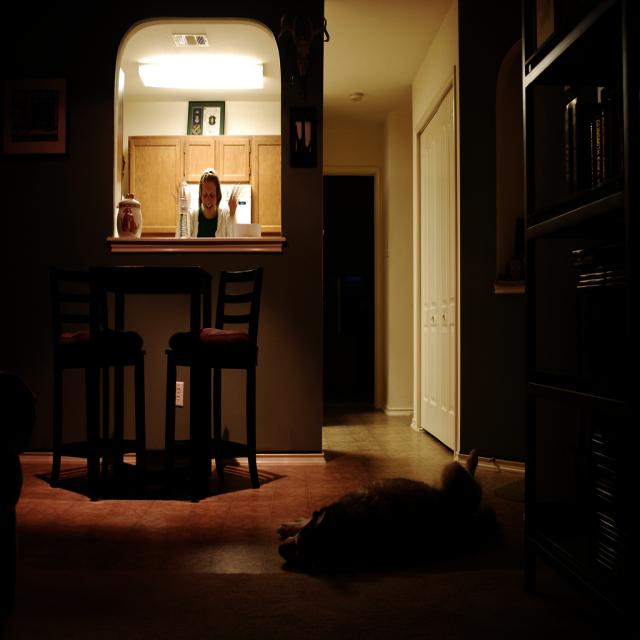Dog: (278, 448, 502, 576)
